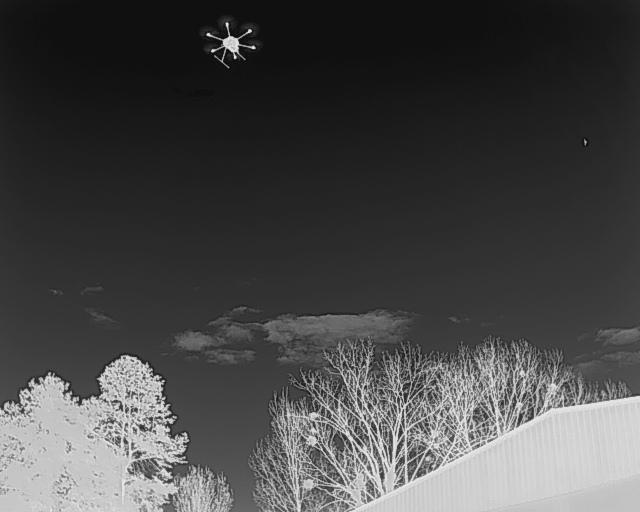drone: (197, 20, 266, 83)
